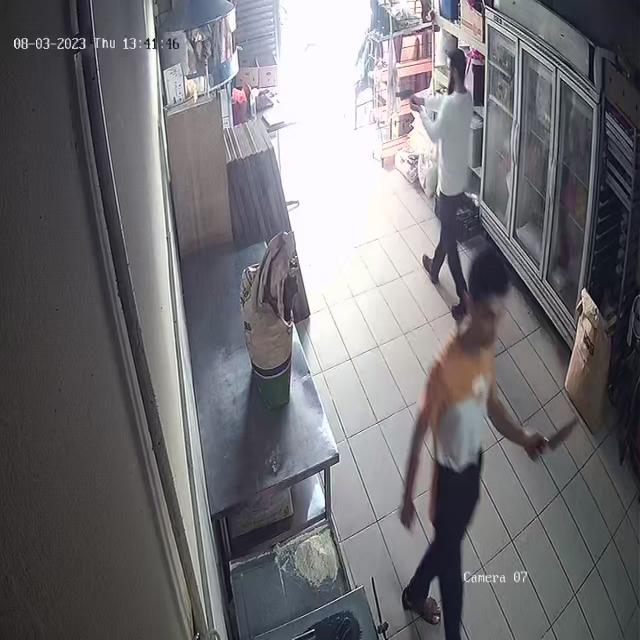Gun: (384, 80, 428, 113)
Knife: (526, 398, 602, 468)
